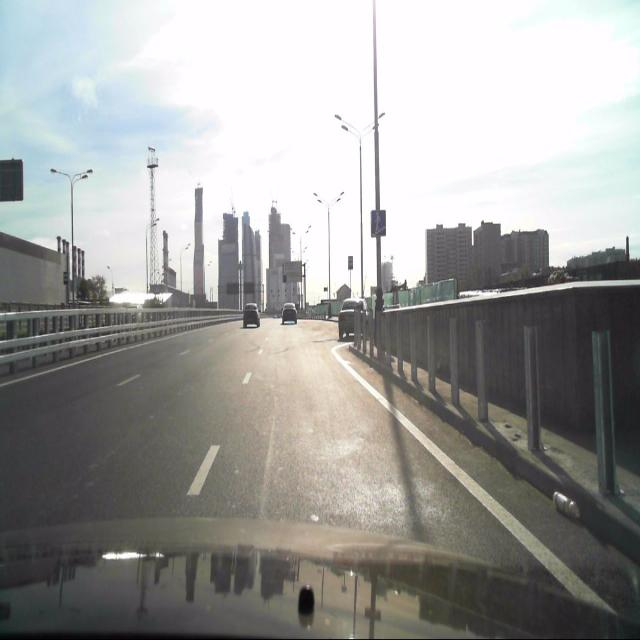road sign: (370, 208, 386, 236)
